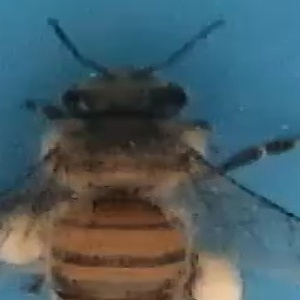bee: (3, 16, 293, 300)
